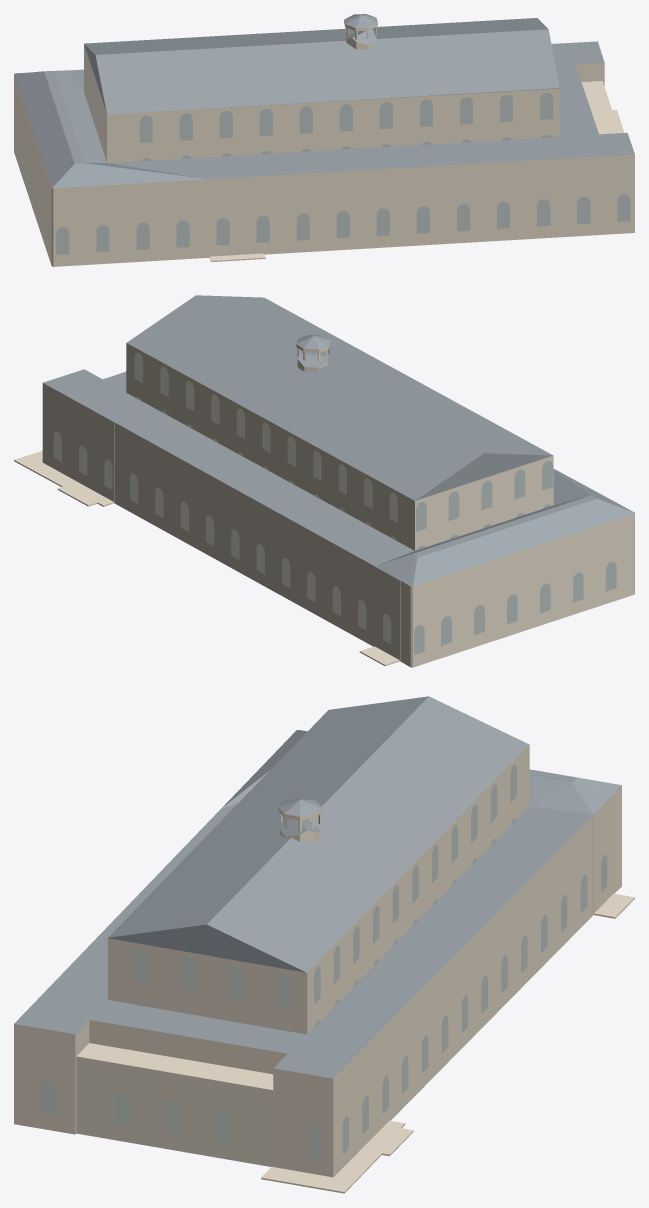
Rendered from detail.glb.
3 renders of one model, top to bottom at view 1: azimuth 30°, elevation 25°; view 2: azimuth 150°, elevation 25°; view 3: azimuth 270°, elevation 25°, orthographic. The views are drawn at different scales.
Parts seen in each view (by area): view 1: stone, roof, window; view 2: stone, roof, window; view 3: roof, stone, window.
Boxes of the visible parts, x1=… form: stone: x1=14, y1=20, x2=634, y2=266; roof: x1=14, y1=14, x2=634, y2=188; window: x1=14, y1=49, x2=630, y2=254; stone: x1=14, y1=341, x2=634, y2=667; roof: x1=43, y1=295, x2=634, y2=586; window: x1=53, y1=352, x2=616, y2=654; roof: x1=14, y1=696, x2=621, y2=1078; stone: x1=14, y1=745, x2=634, y2=1193; window: x1=40, y1=764, x2=607, y2=1161.
Size of the model in its own units: 101 by 29 by 72.93.
